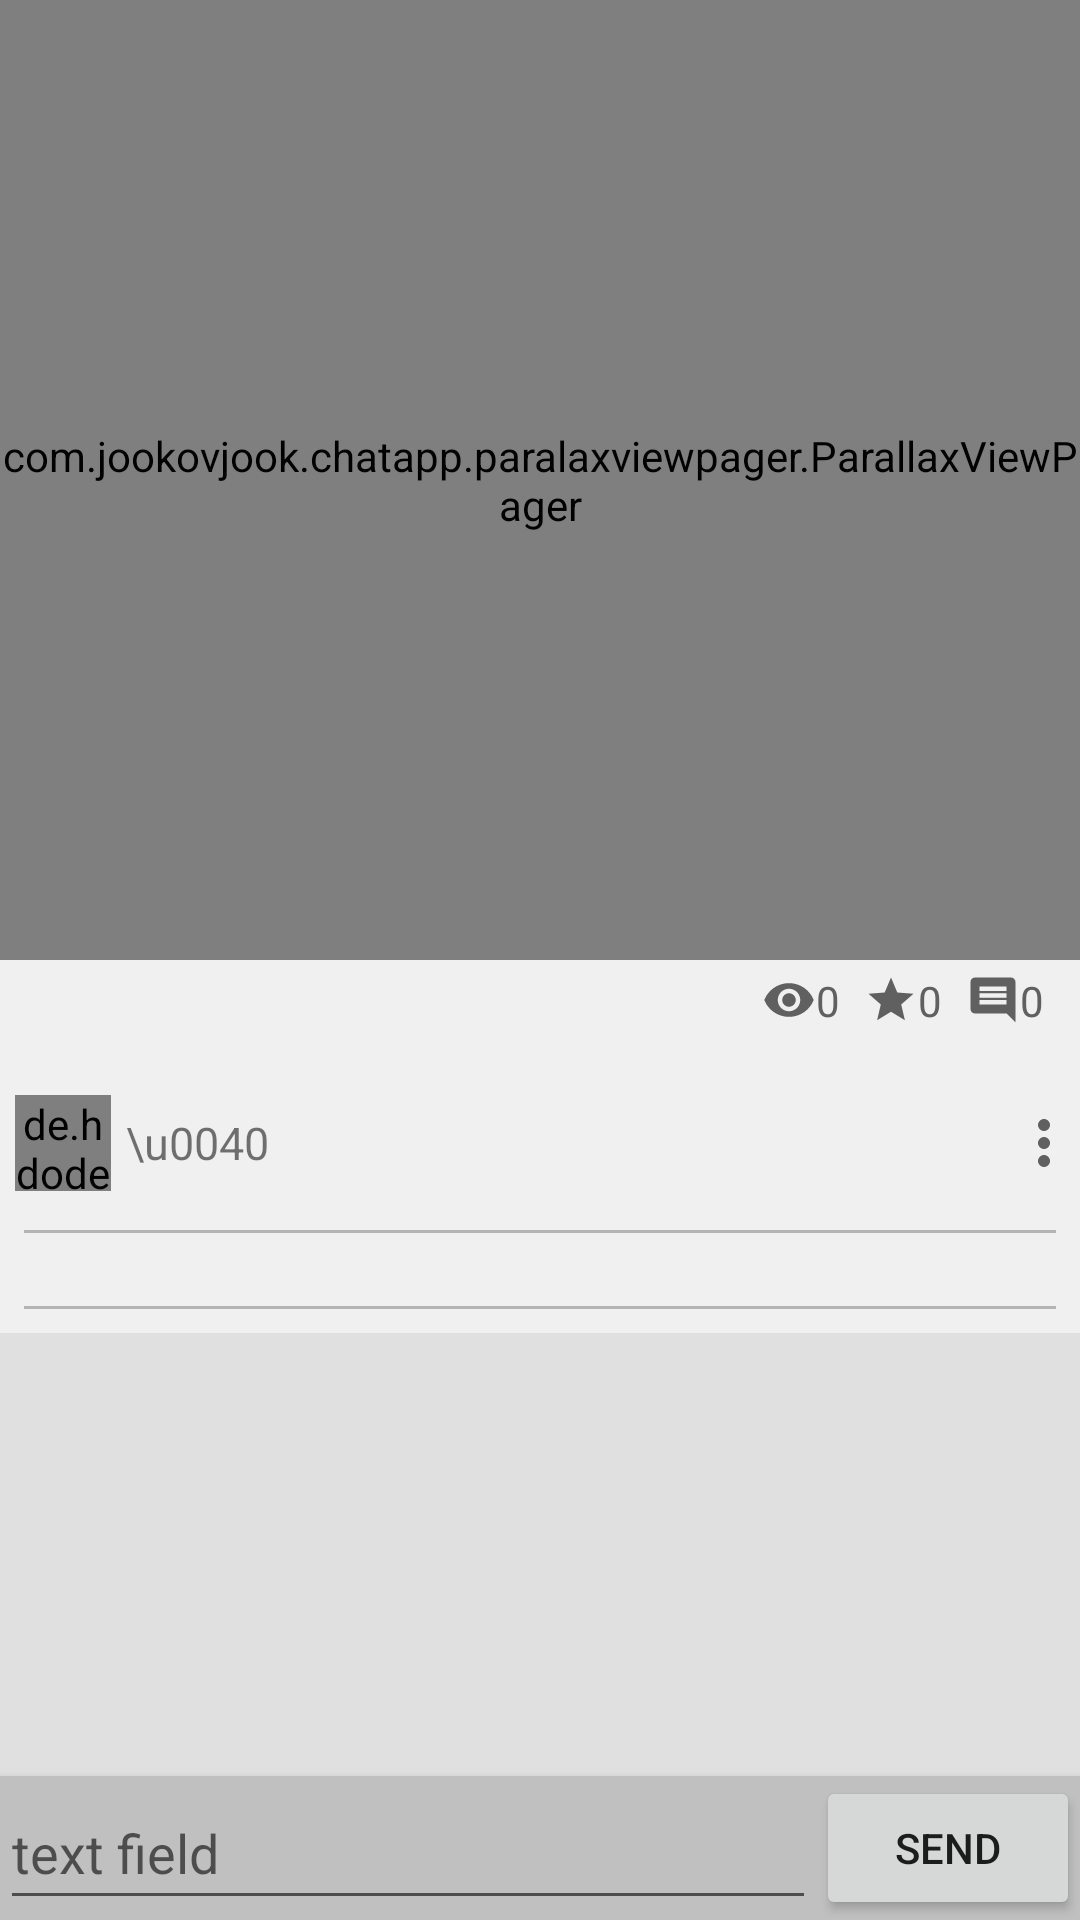

Point at icon controls on the screen. Image size 1080px x 1920px, points as [x,y].
card more: [1044,1143]
comment: [993,999]
star: [891,999]
visibility: [789,1000]
